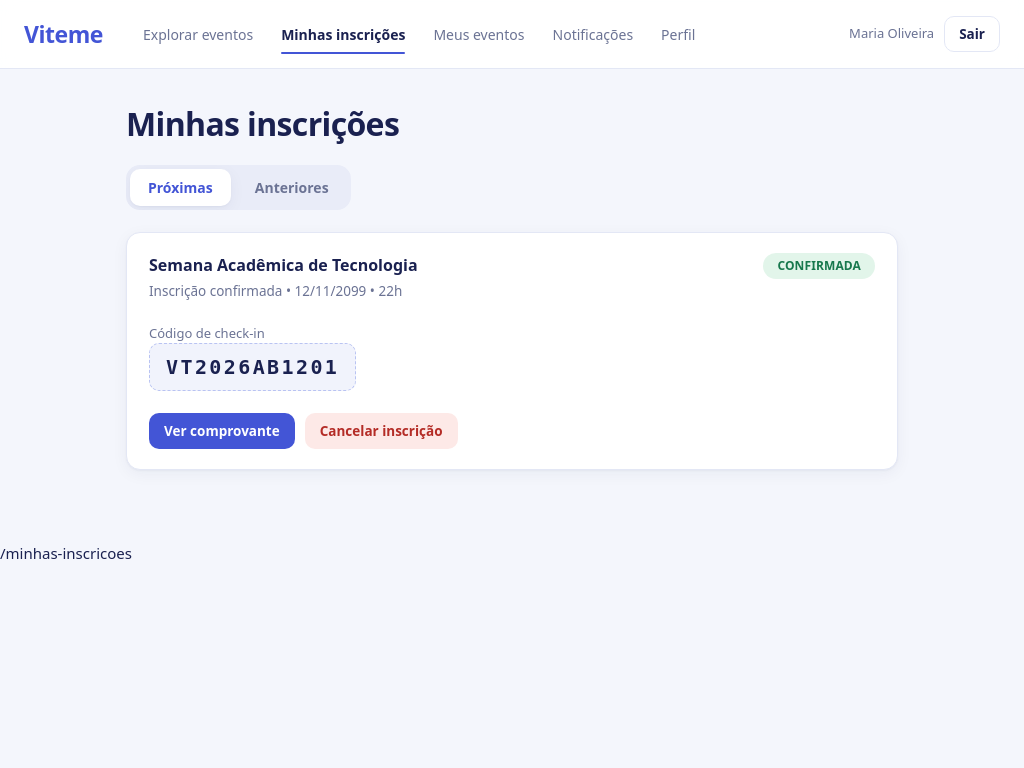
inscrição e pagamento › CTW10 — cancelar a inscrição pede confirmação e informa o estorno
The width and height of the screenshot is (1024, 768).
What coordinates should you click on to do the following:
click the button "Cancelar inscrição"
I would click on:
 (381, 431)
Its box is [305, 413, 458, 449].
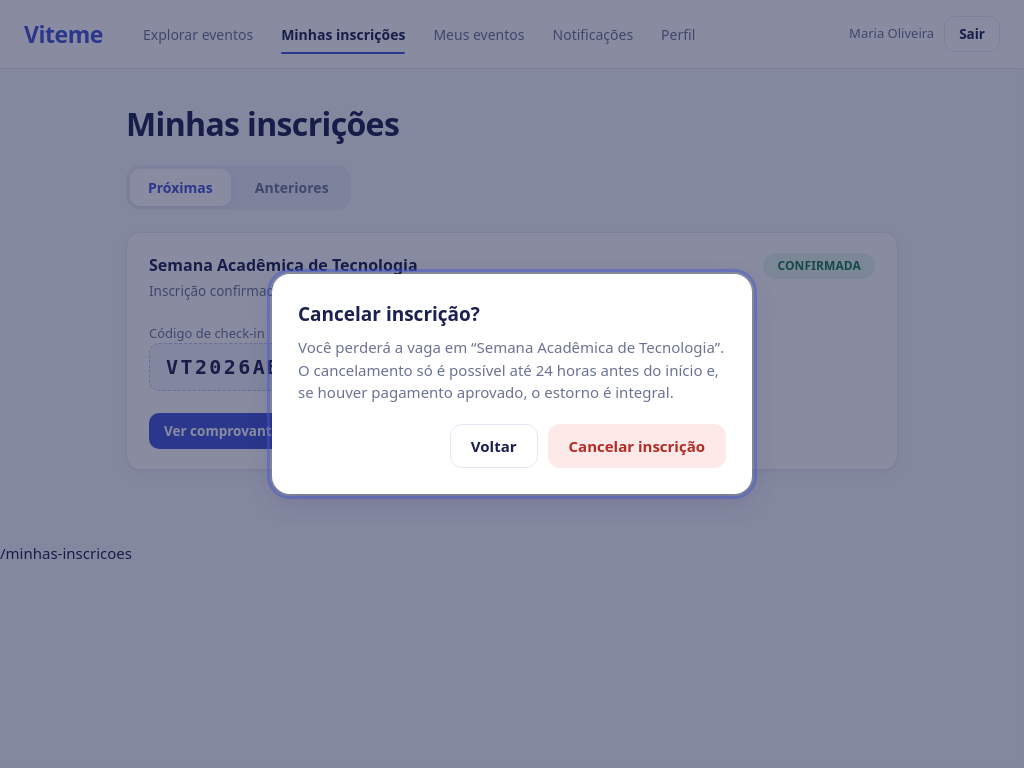
What coordinates should you click on to do the following:
click the button "Cancelar inscrição"
I would click on:
 (637, 446)
Its box is [548, 424, 726, 468].
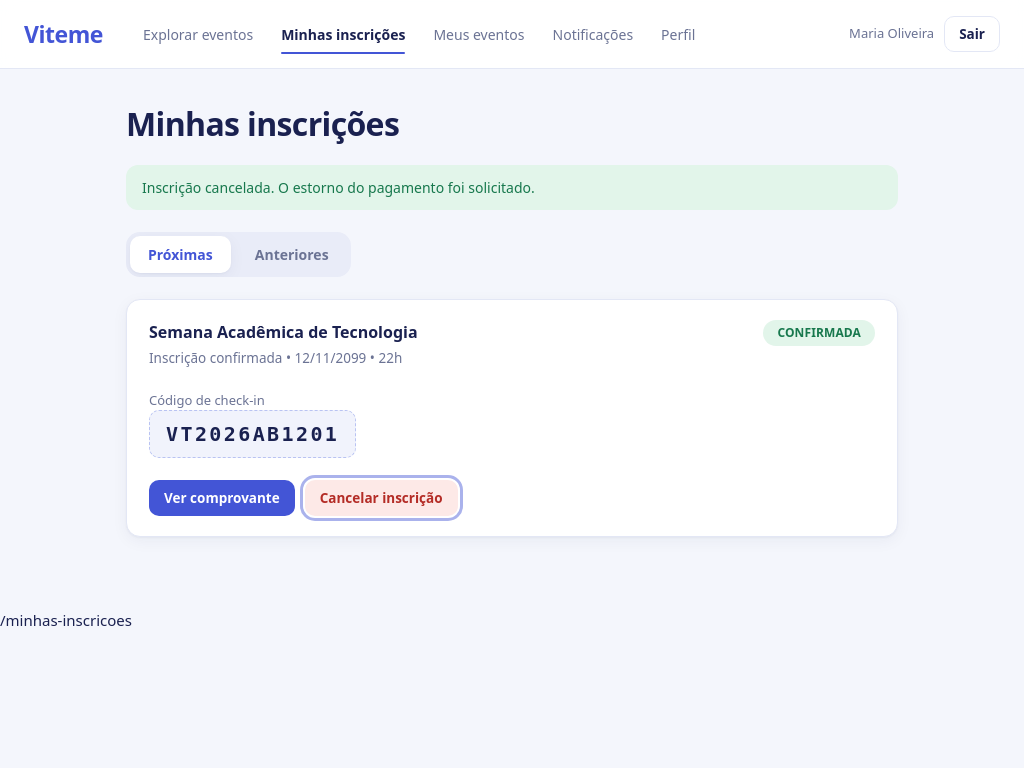
Now the text "Inscrição cancelada. O estorno do pagamento foi solicitado." is shown, box [126, 165, 898, 210]
